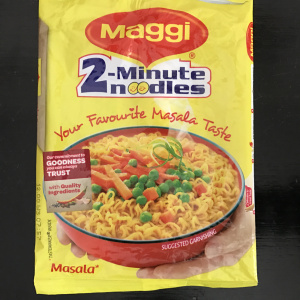maggie: (37, 0, 259, 292)
